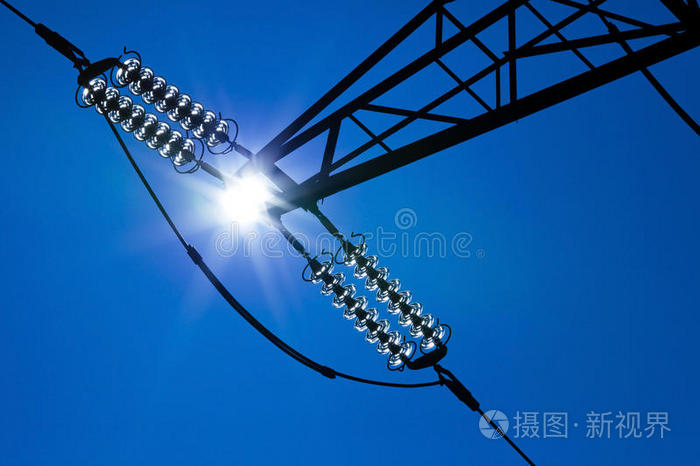insulator: (308, 242, 444, 367), (83, 58, 228, 164)
